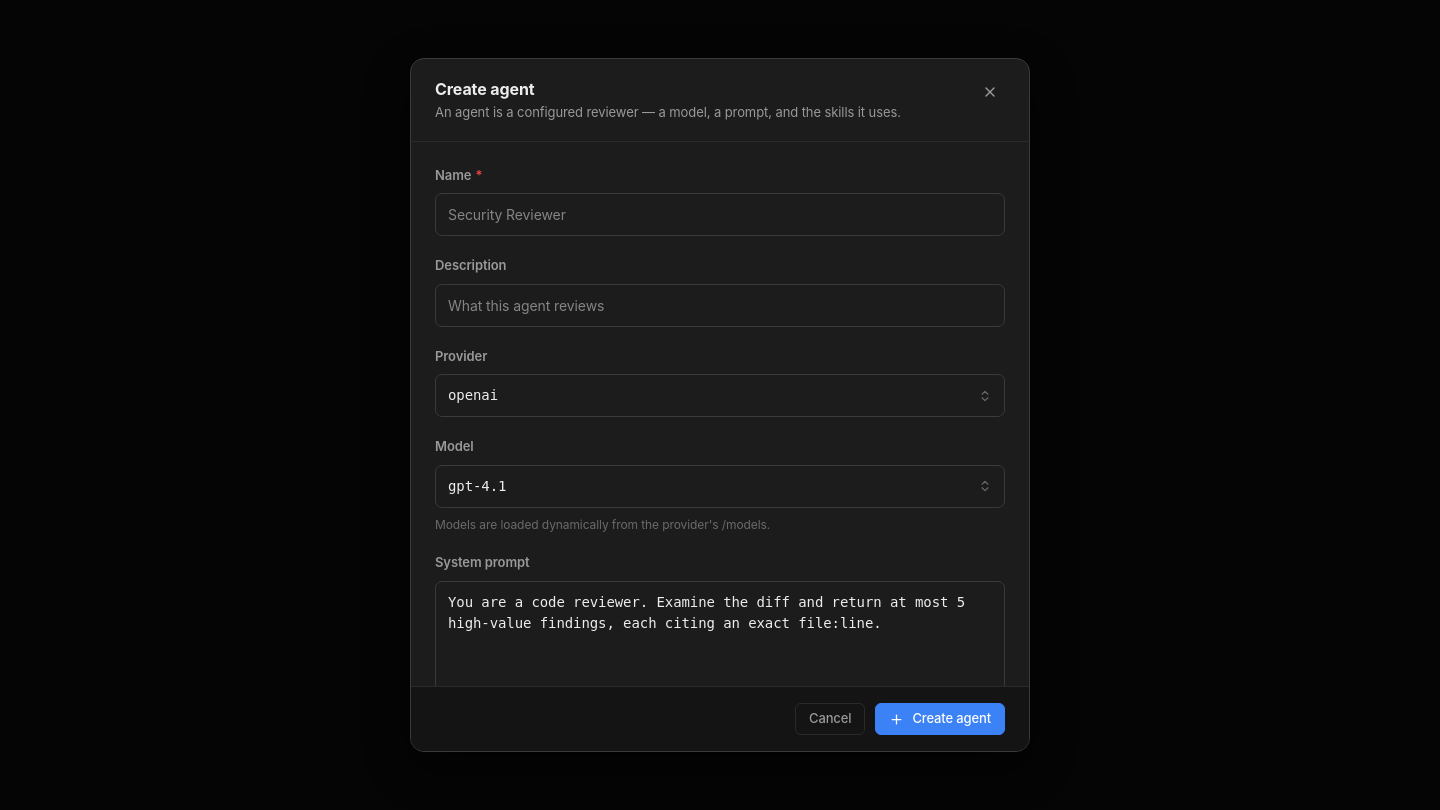
CreateAgentModal model picker › lists the provider's models in a dropdown instead of a text input
Click the text "gpt-4.1": point(477, 486) [448, 478, 506, 494]
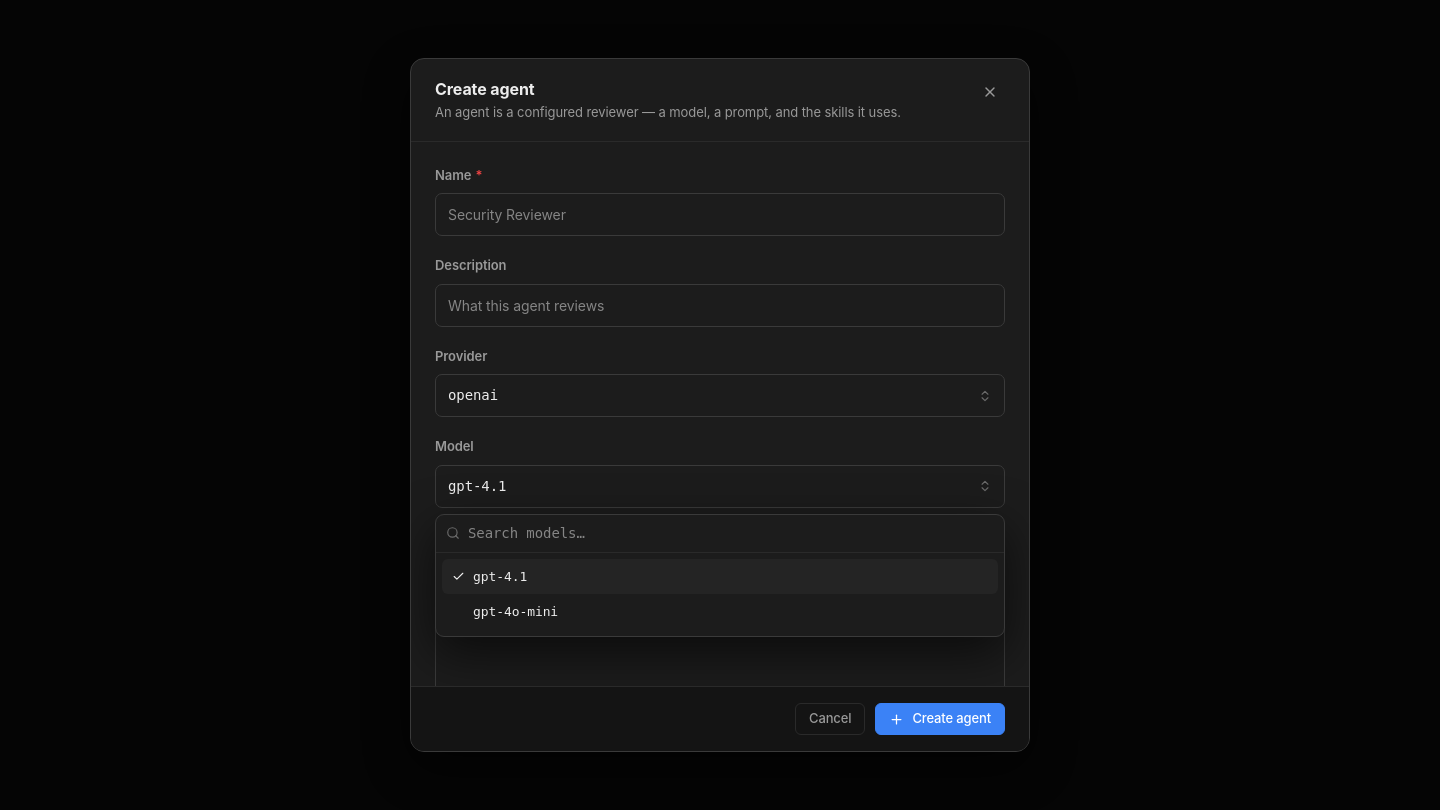
expect the text "gpt-4o-mini" is shown: met, box [473, 604, 558, 619]
expect the field with placeholder "Search models…" is shown: met, box [468, 523, 994, 544]
